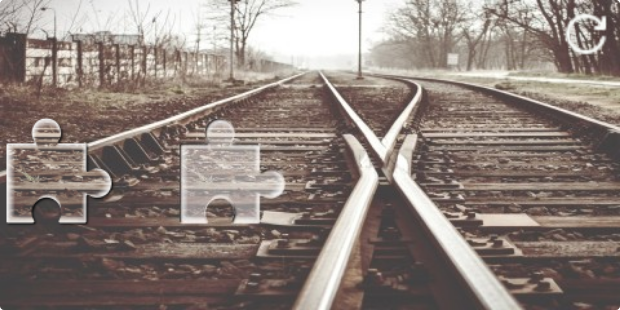target: (180, 120, 284, 225)
